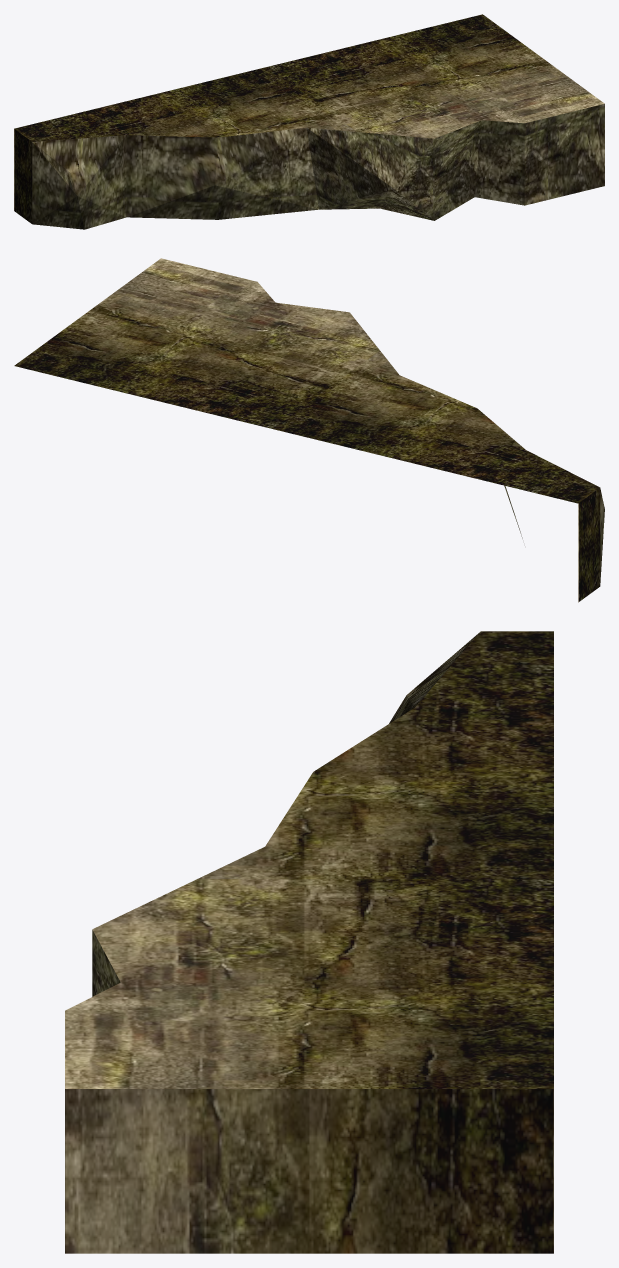
3 views of the same model, one above another, from view 1: azimuth 30°, elevation 25°; view 2: azimuth 150°, elevation 25°; view 3: azimuth 270°, elevation 25° (orthographic). The views are drawn at different scales.
Parts seen in each view (by area): view 1: model_Object16; view 2: model_Object16; view 3: model_Object16.
Boxes of the visible parts, x1,y1,x2,y2 form: model_Object16: (14,14,604,229); model_Object16: (14,258,604,602); model_Object16: (65,631,553,1253).
Size of the model in its own units: 2.98 by 0.5006 by 1.35.
Materials: 2 (2 with a texture image).
